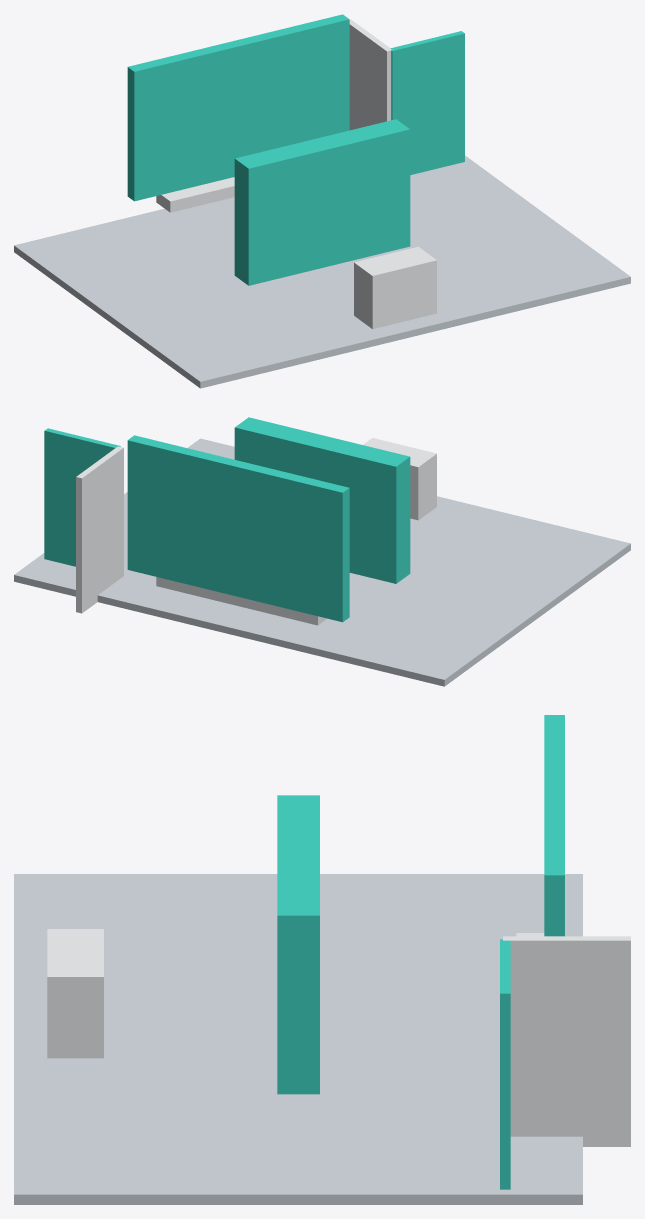
3 views of the same model, one above another, from view 1: azimuth 30°, elevation 25°; view 2: azimuth 150°, elevation 25°; view 3: azimuth 270°, elevation 25° (orthographic). The views are drawn at different scales.
Visible parts, largest first — view 1: Exhibition Booth Concept; view 2: Exhibition Booth Concept; view 3: Exhibition Booth Concept.
Boxes of the visible parts, box(x1,y1,x2,y2) form: Exhibition Booth Concept: box(14, 14, 630, 388); Exhibition Booth Concept: box(14, 417, 630, 686); Exhibition Booth Concept: box(14, 715, 630, 1204).
Size of the model in its own units: 8 by 2.9 by 6.51.
